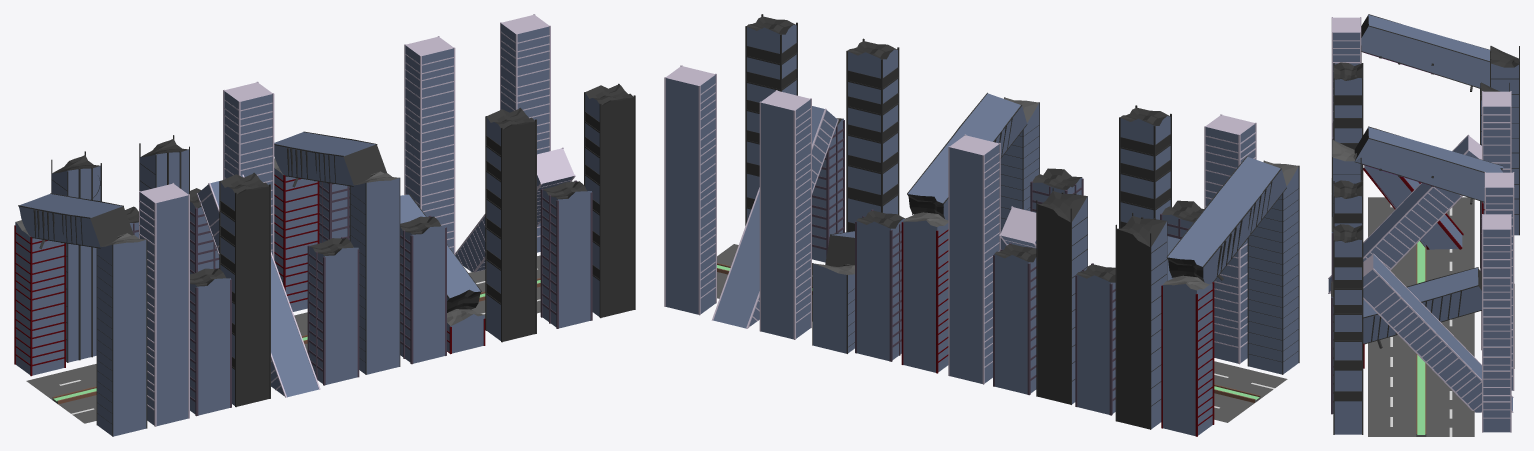
File: PostApocalypticStreet.fbx
The picture shows the model from 3 angles, left to right: view 1: azimuth 30°, elevation 25°; view 2: azimuth 150°, elevation 25°; view 3: azimuth 270°, elevation 25°; orthographic projection. The views are drawn at different scales.
Visible parts, largest first — view 1: Plane; view 2: Plane; view 3: Plane.
Part boxes in pixels (<box>): Plane: <box>14,14,635,436</box>; Plane: <box>664,14,1299,436</box>; Plane: <box>1328,14,1519,436</box>.
Bounding box in the file's own units: 10659 × 4237 × 3605.
